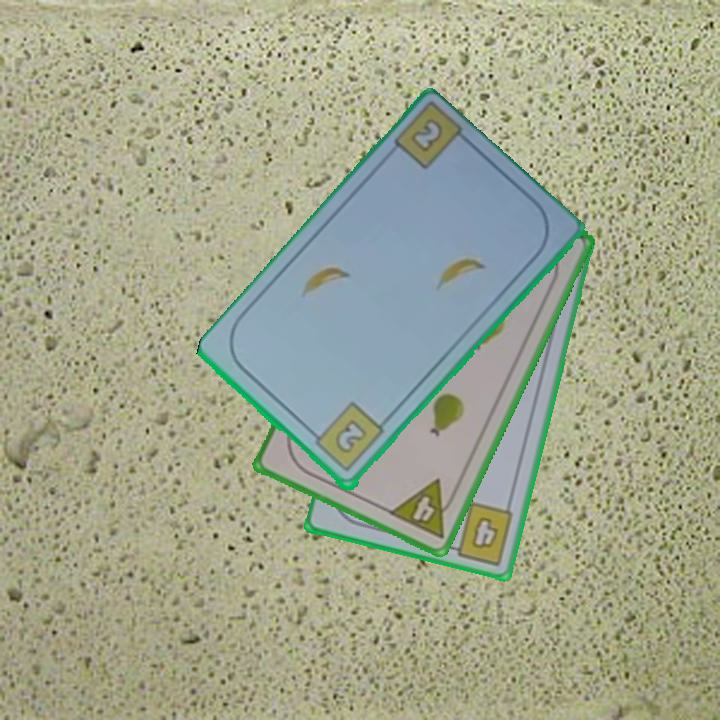2b: (306, 399, 387, 476), (407, 115, 446, 156)
4b: (443, 498, 517, 568)
4p: (385, 475, 462, 542)
